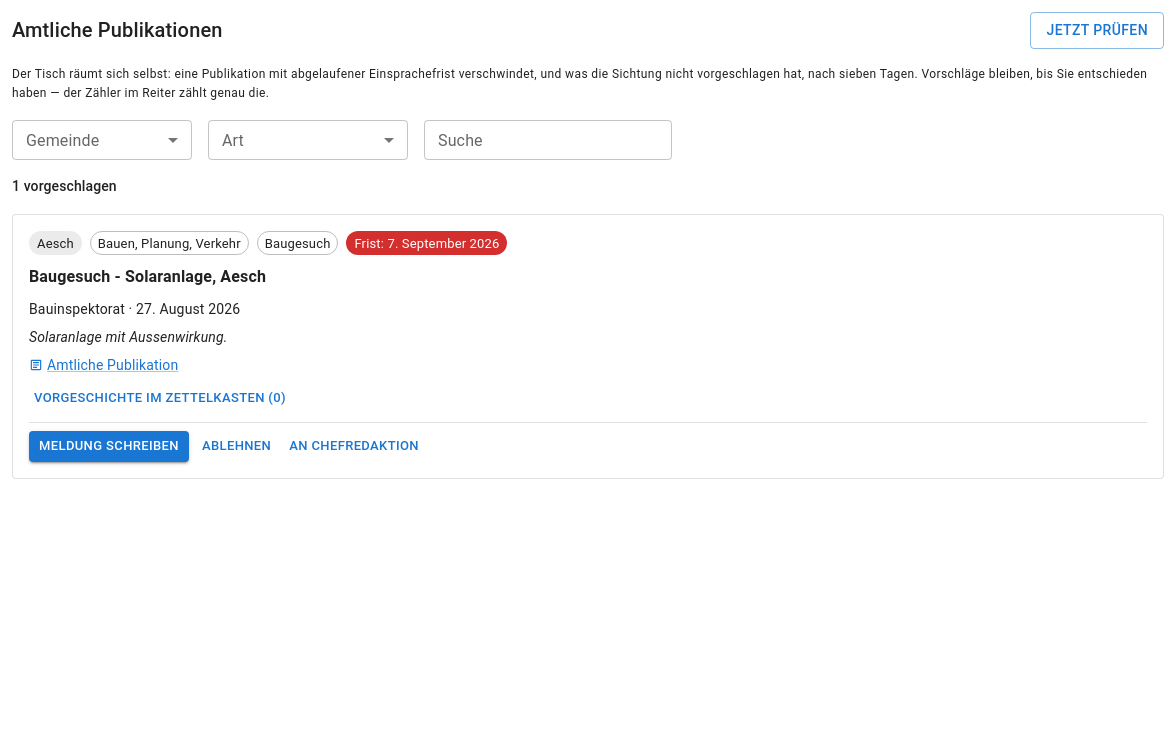
Test: Vorgeschichte aus dem Zettelkasten › sagt, dass der Zettelkasten nicht angeschlossen ist
Click the button "Vorgeschichte im Zettelkasten (0)". click: (160, 399)
box: x1=29 y1=383 x2=291 y2=414
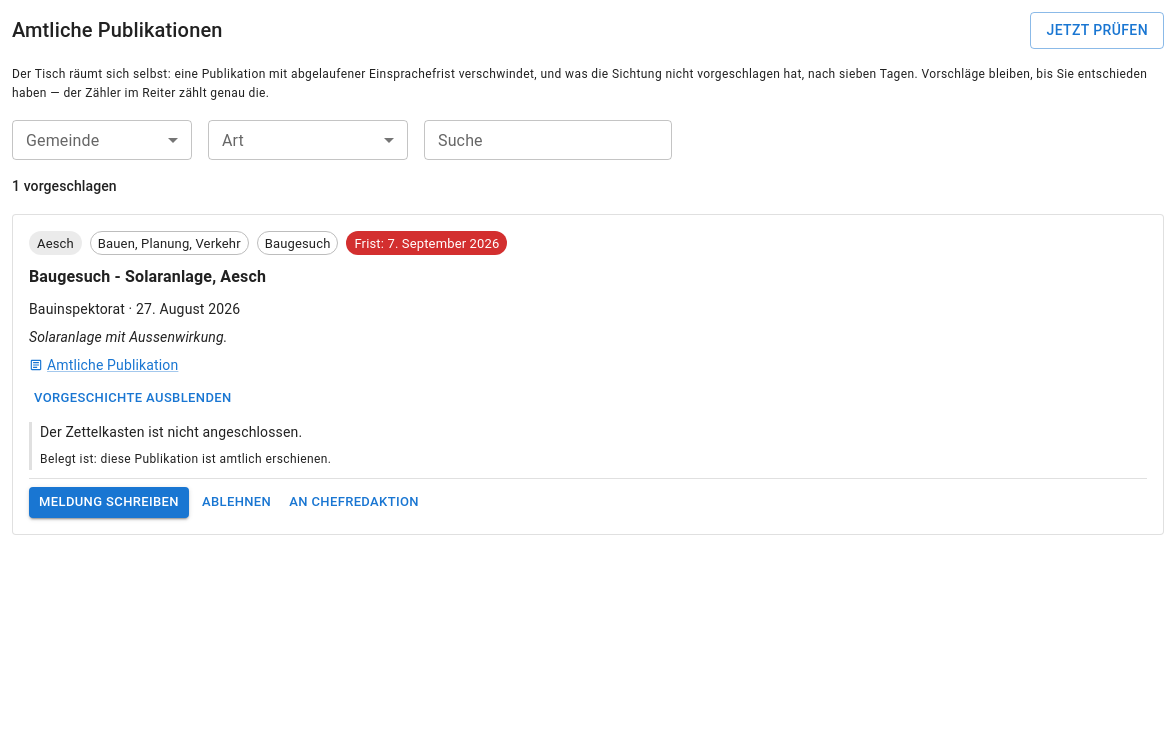
expect the text "Der Zettelkasten ist nicht angeschlossen." is shown: met, box x1=40 y1=424 x2=302 y2=440
